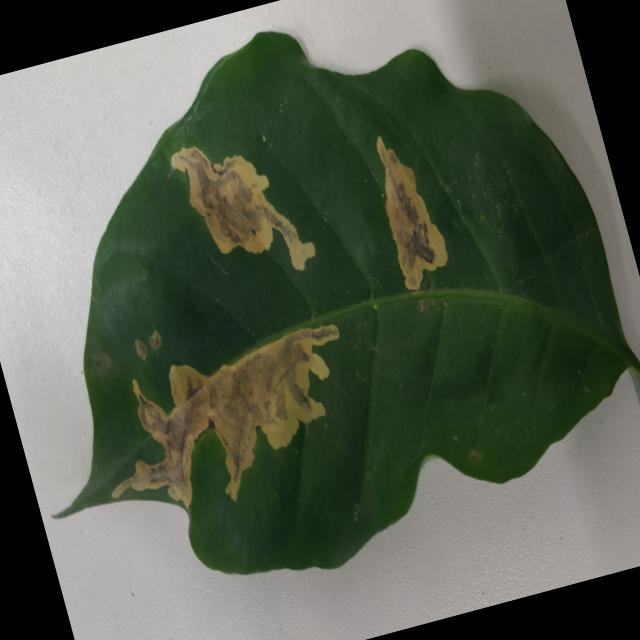KaratDaunKopi: (112, 324, 339, 508), (171, 147, 315, 270), (377, 137, 447, 289), (135, 339, 147, 360), (149, 330, 161, 350), (469, 449, 481, 462)
